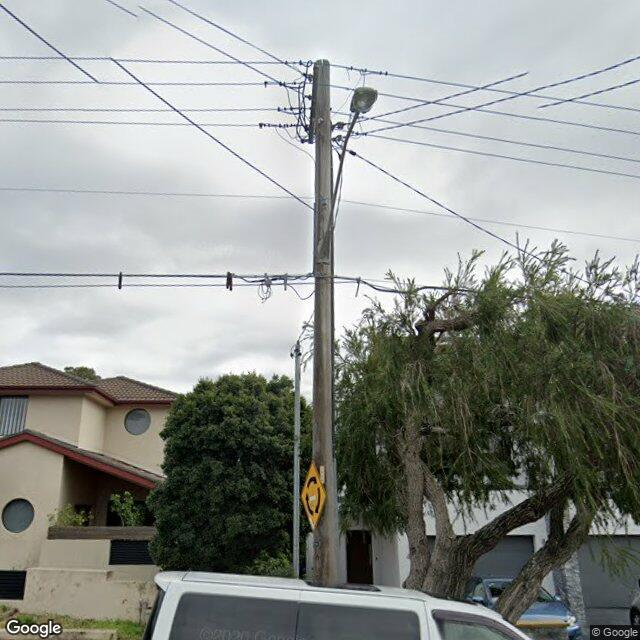crossarm: (308, 62, 320, 145)
steel-pole: (293, 344, 300, 580)
streetlight: (320, 86, 379, 260)
timber-pole: (311, 59, 339, 587)
